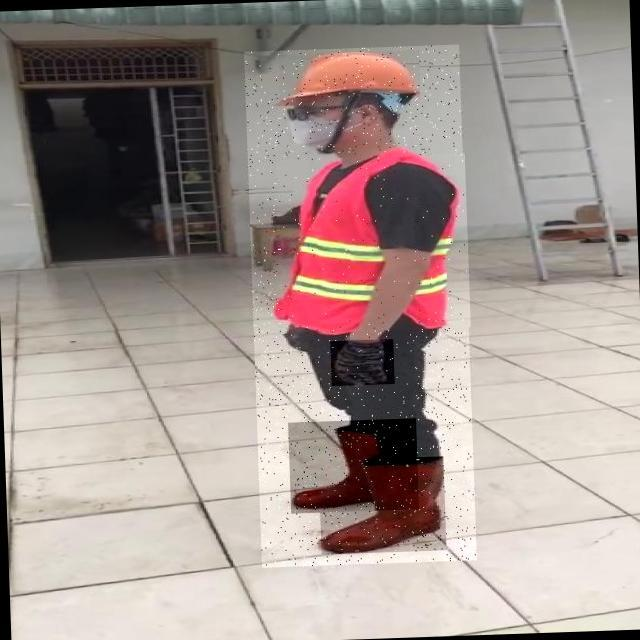Gloves: (331, 339, 395, 386)
Helmet: (279, 50, 421, 105)
Human: (244, 44, 478, 567)
Safety Boot: (319, 457, 446, 555), (289, 418, 420, 513)
Safety Vest: (277, 153, 471, 333)
